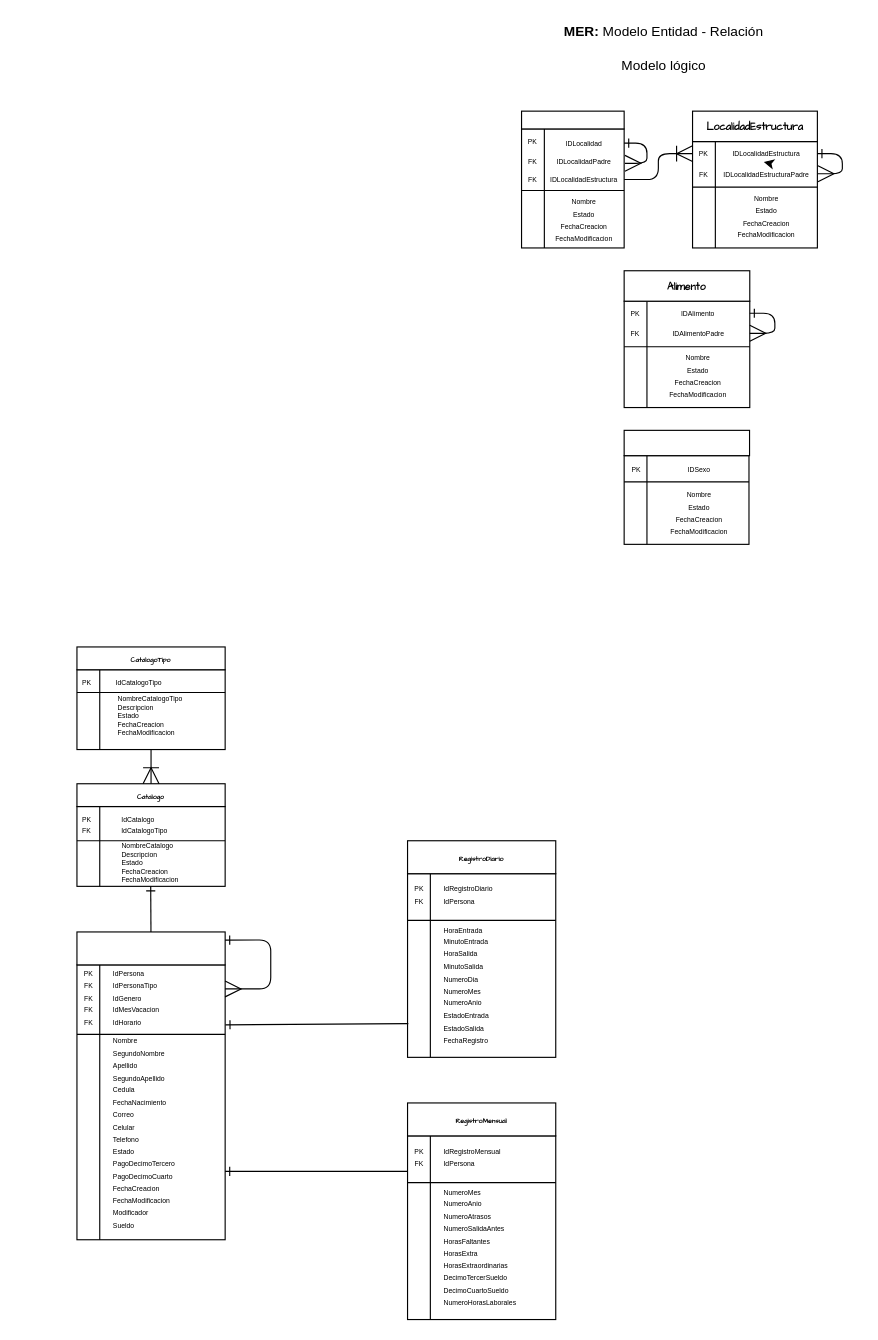
This 878x1340 diagram has some shape labels left out. The shapes that lost their labels are listed below. From the top down, each one's centre as x and y in pixels, then its label:
the point at 572,119: Localidad
the point at 686,442: Sexo
the point at 150,948: RegistroPersona
